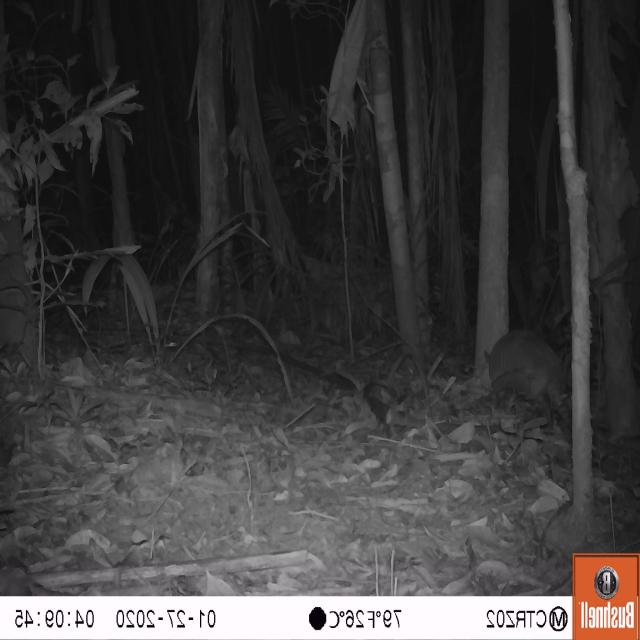Armadillo: (473, 319, 588, 442)
